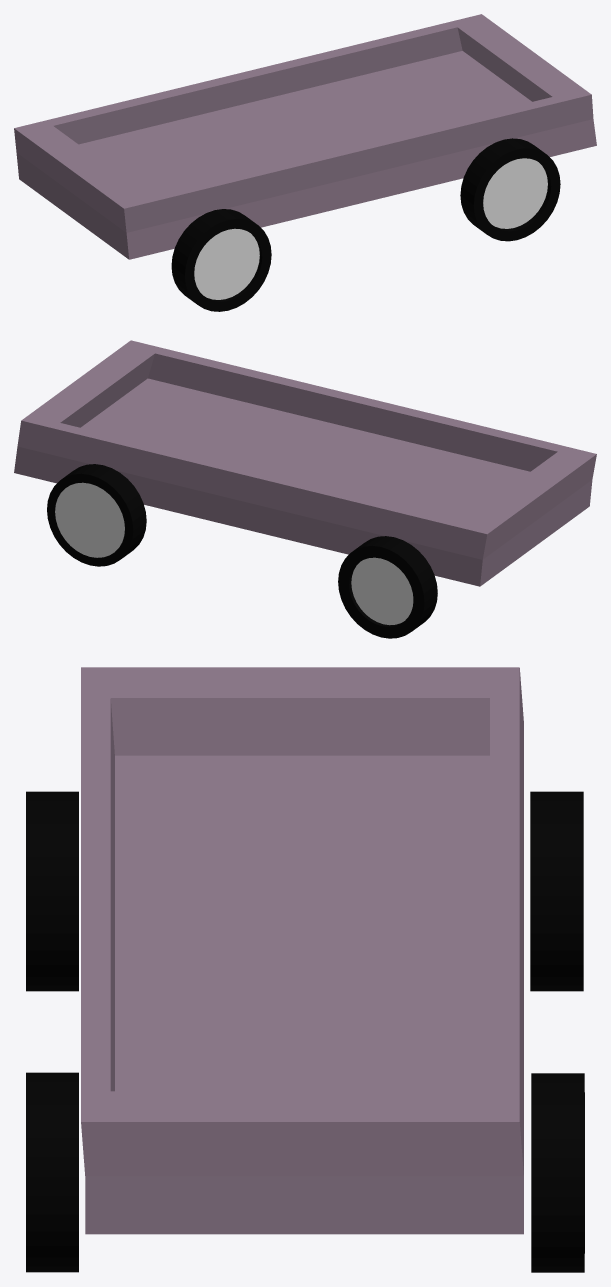
File: cart2.fbx
3 views of the same model, one above another, from view 1: azimuth 30°, elevation 25°; view 2: azimuth 150°, elevation 25°; view 3: azimuth 270°, elevation 25° (orthographic). The views are drawn at different scales.
Visible parts, largest first — view 1: Cylinder.001; view 2: Cylinder.001; view 3: Cylinder.001.
Boxes of the visible parts, x1=… form: Cylinder.001: x1=14, y1=14, x2=596, y2=311; Cylinder.001: x1=14, y1=340, x2=596, y2=638; Cylinder.001: x1=26, y1=667, x2=584, y2=1272.
Size of the model in its own units: 1092 by 251 by 560.
